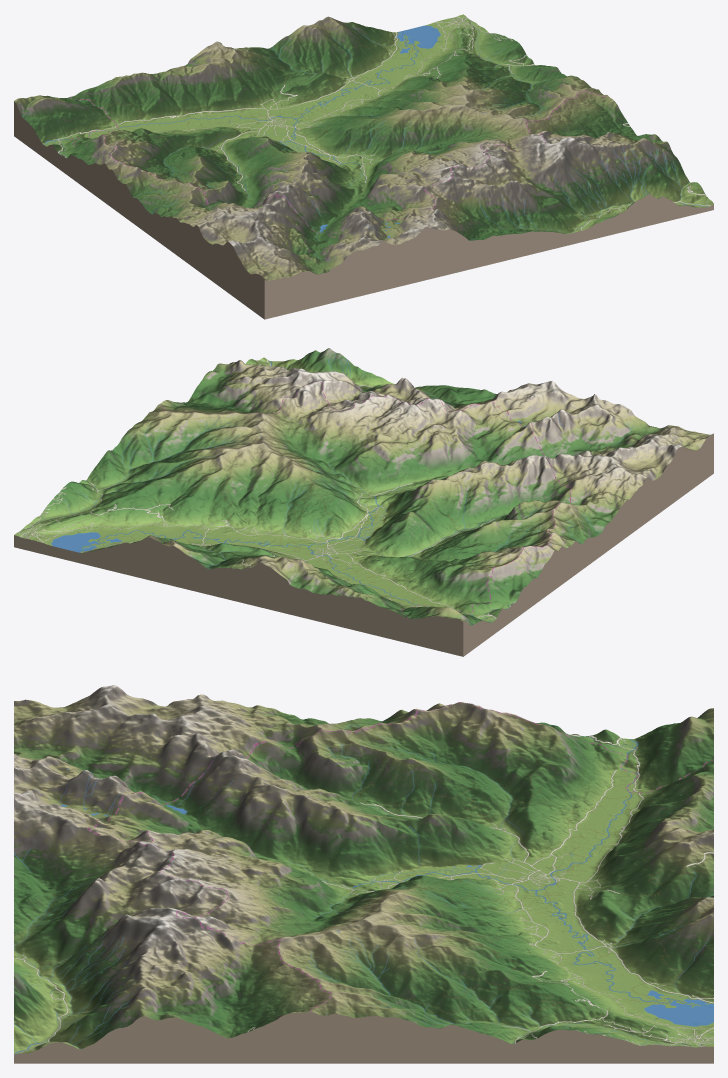
File: teren.glb
3 renders of one model, top to bottom at view 1: azimuth 30°, elevation 25°; view 2: azimuth 150°, elevation 25°; view 3: azimuth 270°, elevation 25°, orthographic. The views are drawn at different scales.
Parts seen in each view (by area): view 1: teren; view 2: teren; view 3: teren.
Part boxes in pixels (left/top/right/bottom): teren: left=14, top=14, right=713, bottom=319; teren: left=14, top=348, right=713, bottom=656; teren: left=14, top=685, right=713, bottom=1063.
Size of the model in its own units: 1 by 0.1167 by 0.9657.
Materials: 2 (1 with a texture image).
